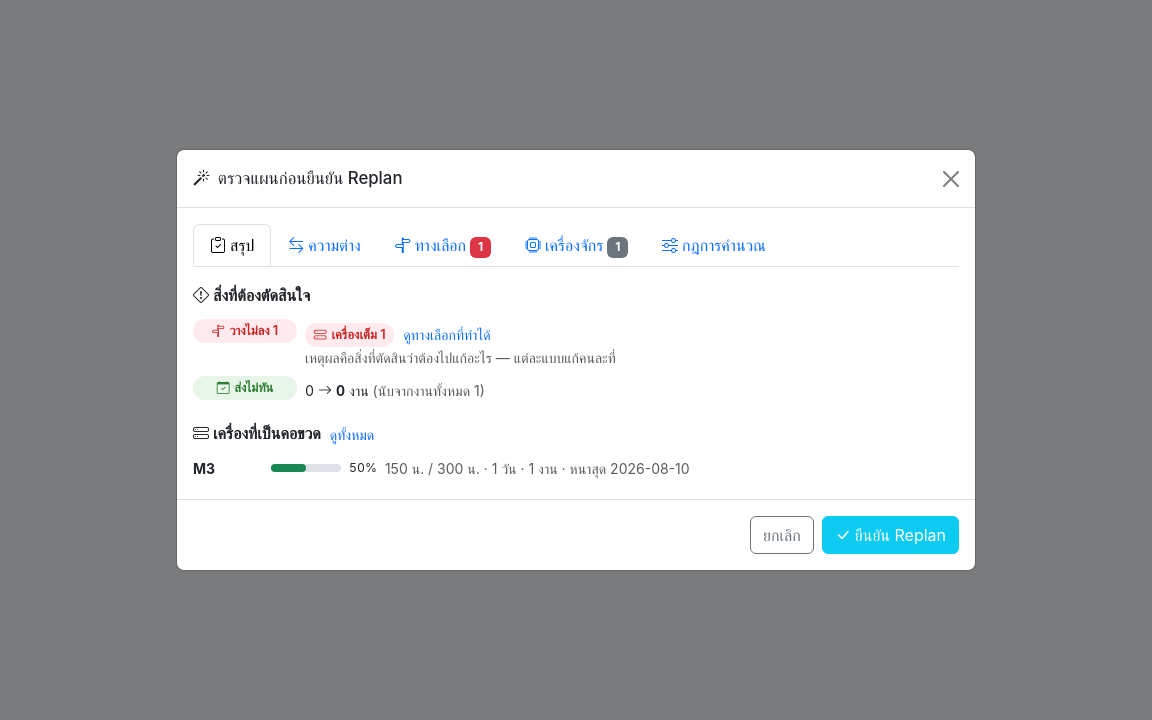
Test: เหตุผลที่วางไม่ลง ต้องไม่ผูกกับจำนวน fell-out › วันสุดท้ายของปฏิทินมาจากแถว ไม่ใช่จาก capacityWarning
Click the tab "ทางเลือก 1" at (443, 246), box [378,224,508,267]
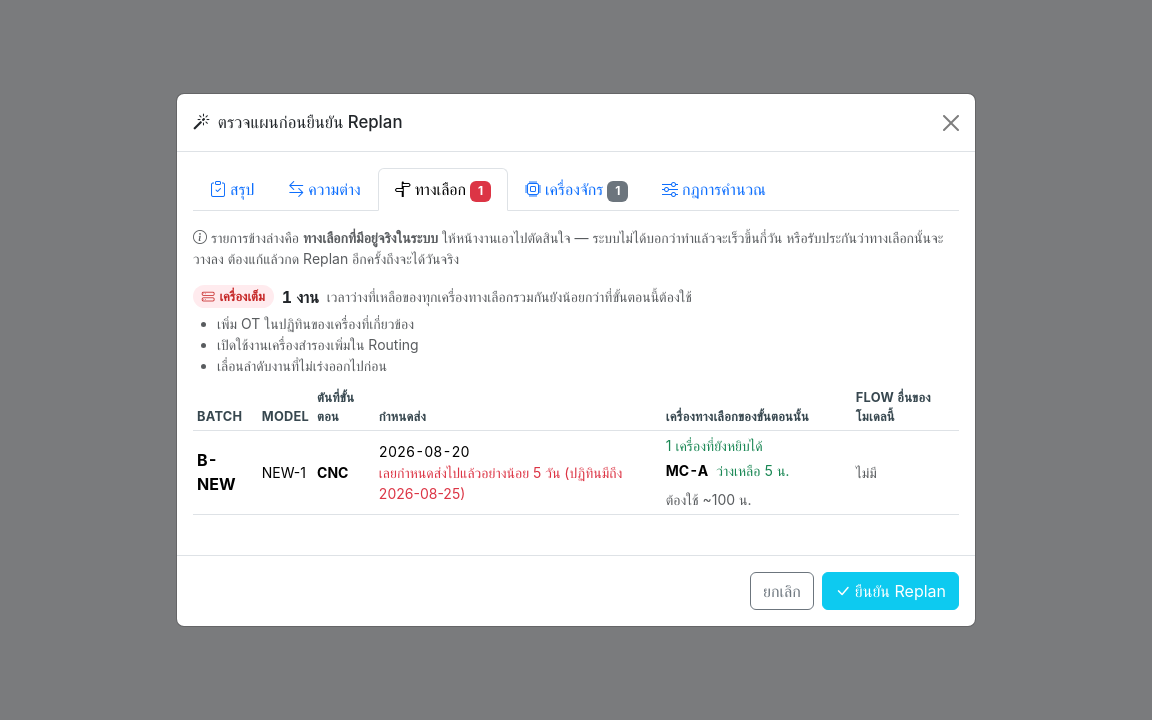
Expected: the text "เลยกำหนดส่งไปแล้วอย่างน้อย 5 วัน (ปฏิทินมีถึง 2026-08-25)" is shown, [379,462,658,504]
